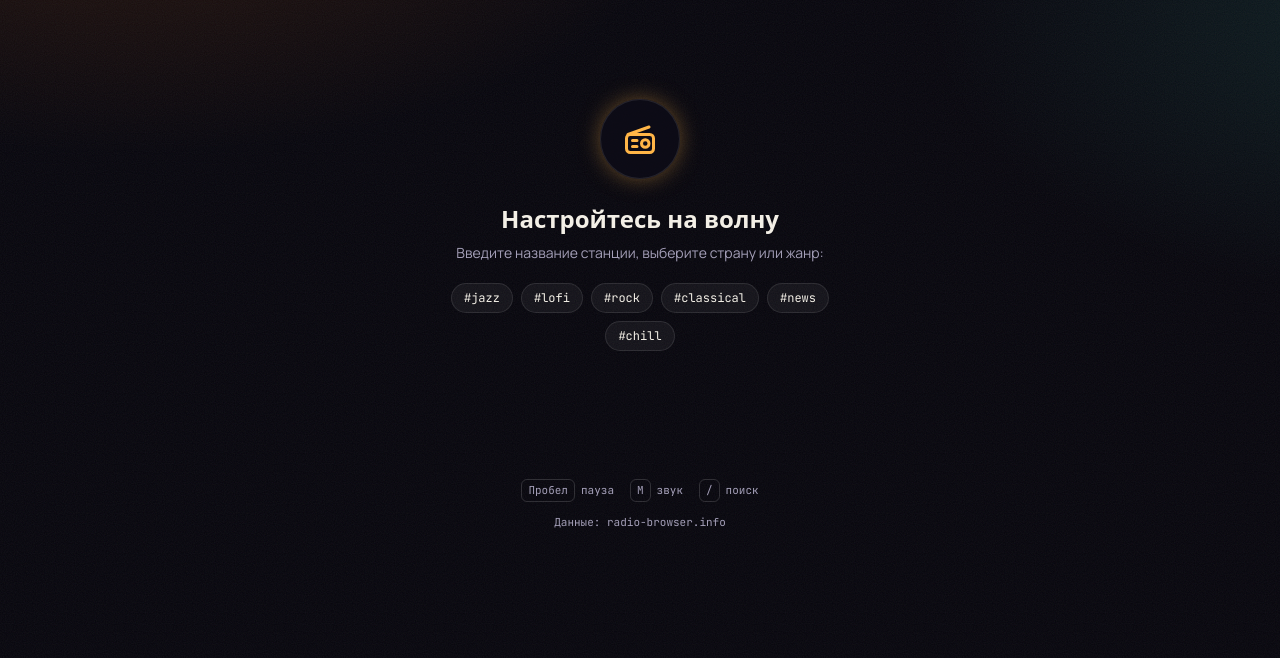
Test: App › ищет по жанру из подсказки и по стране из фильтра
The image size is (1280, 658).
(page scrolled)
Click the button "#jazz": [482, 298] box [451, 283, 513, 313]
(page scrolled)
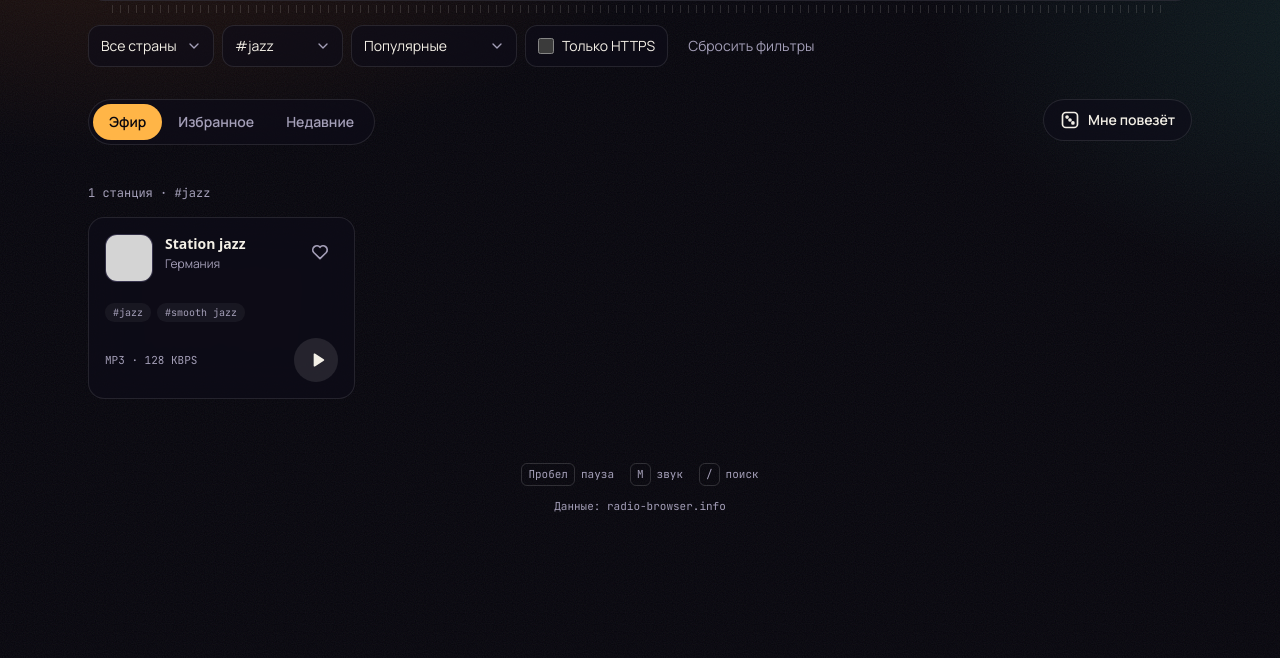
Check: the heading "Station jazz" is shown, box [165, 234, 246, 253]
Select "Германия" in the 1st dropdown named "Страна": [151, 46] box [88, 25, 214, 67]
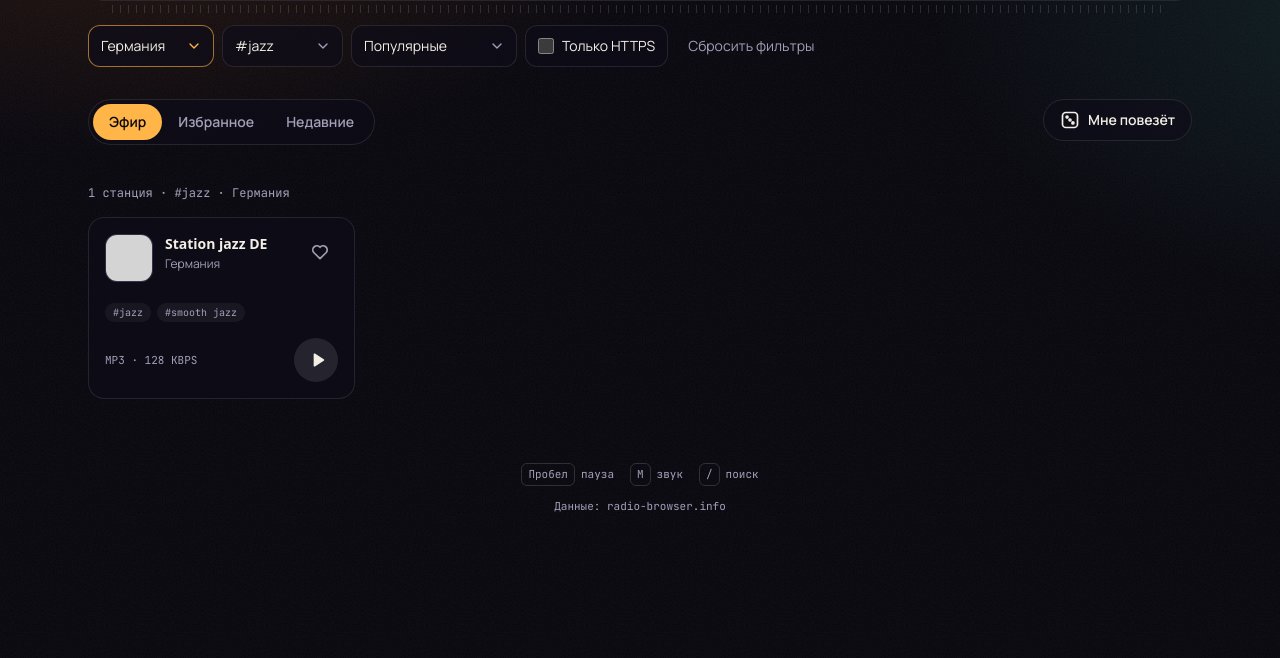
Check: the heading "Station jazz DE" is shown, box [165, 234, 267, 253]
